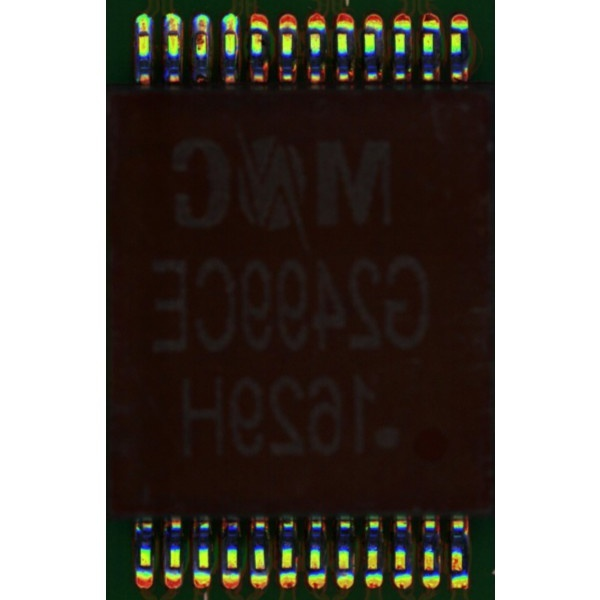Bad_podu: (168, 25, 178, 38), (225, 23, 234, 37), (196, 27, 207, 38), (139, 27, 149, 39)
